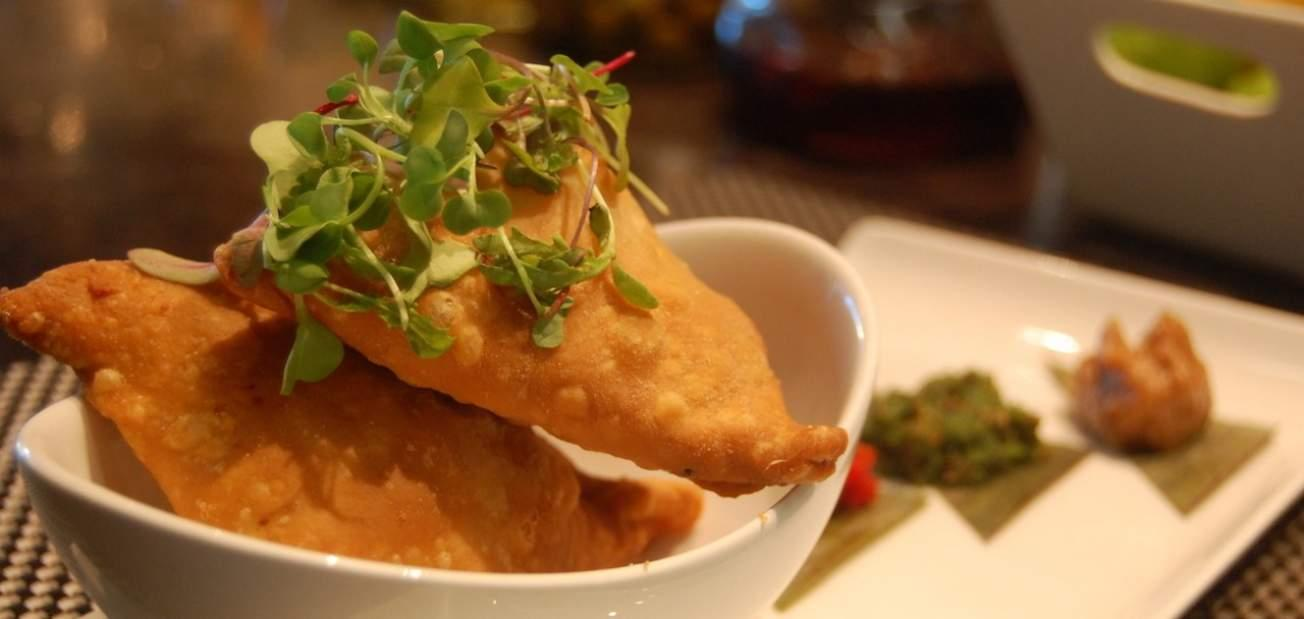samosa: (135, 13, 846, 494)
